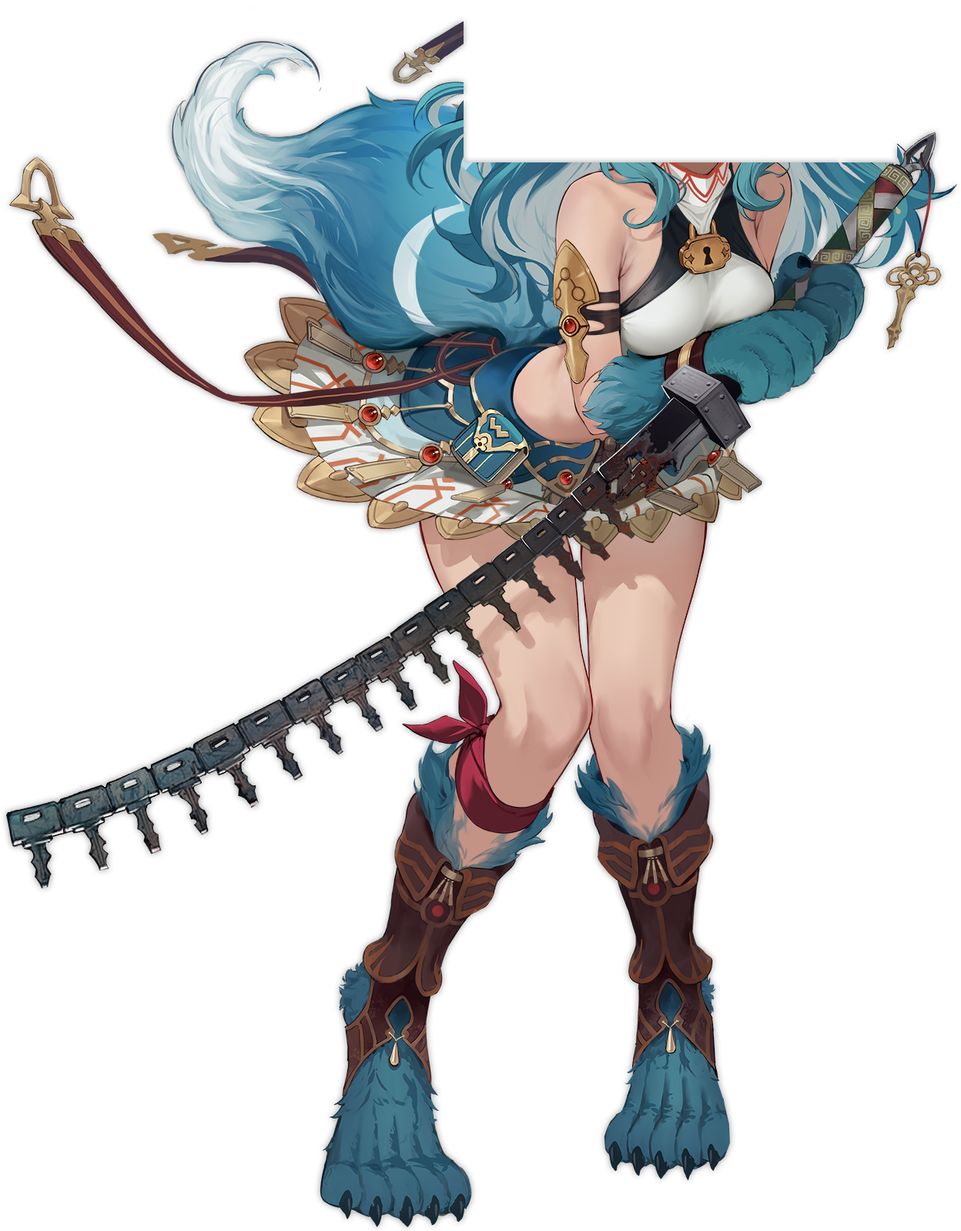person: (56, 157, 956, 1230)
